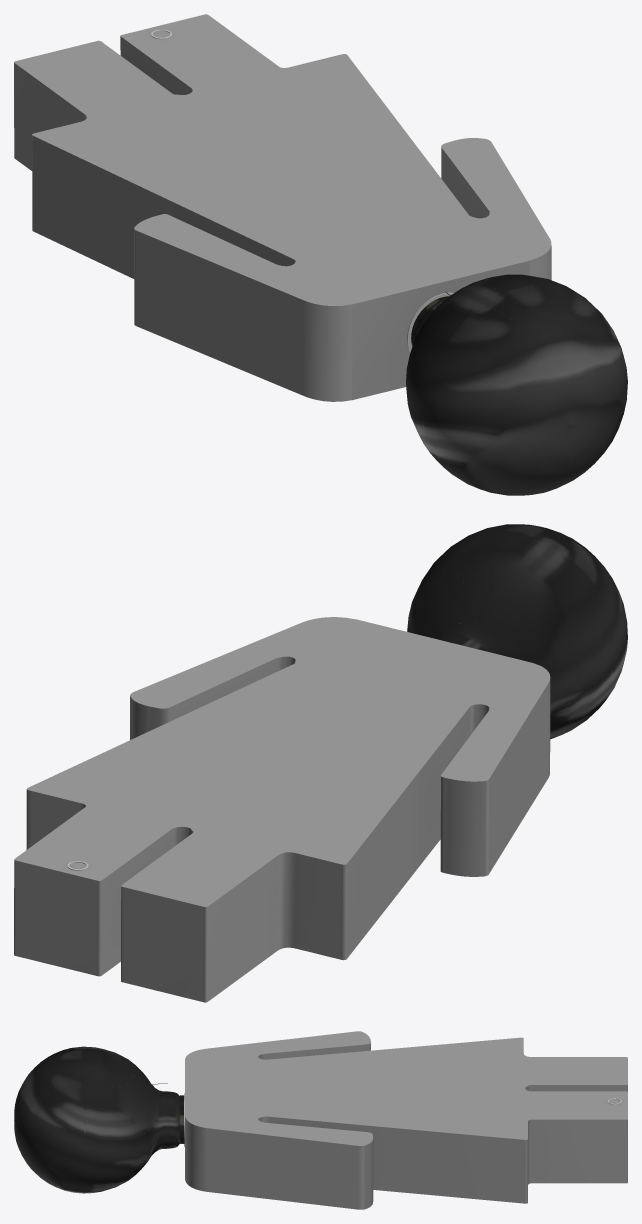
The model's file is raw_model.glb.
The picture shows the model from 3 angles, top to bottom: view 1: azimuth 30°, elevation 25°; view 2: azimuth 150°, elevation 25°; view 3: azimuth 270°, elevation 25°; orthographic projection. The views are drawn at different scales.
Visible parts, largest first — view 1: raw_model.023; view 2: raw_model.023; view 3: raw_model.023.
Part boxes in pixels (x1,y1,x2,y2): raw_model.023: (14,14,627,495); raw_model.023: (14,524,627,1002); raw_model.023: (14,1031,627,1209).
Bounding box in the file's own units: 0.7442 × 0.3992 × 1.67.
Materials: 1 (1 with a texture image).
